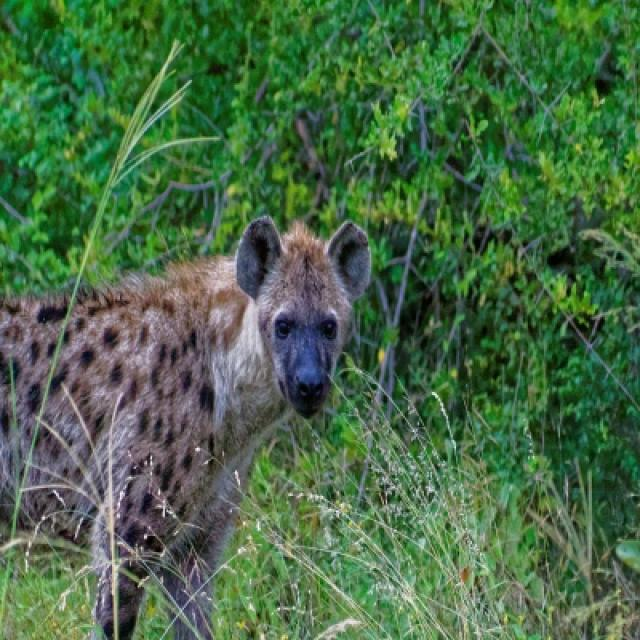hyena: (0, 216, 373, 638)
